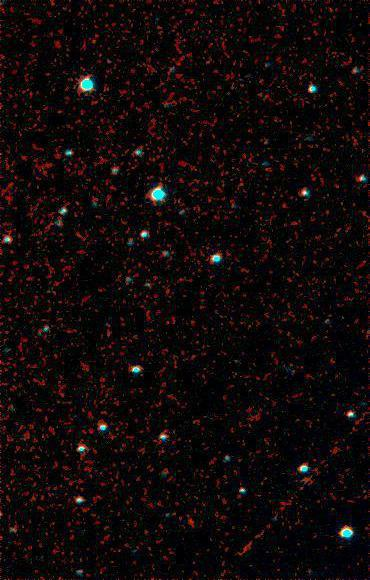star: (174, 506, 204, 536)
